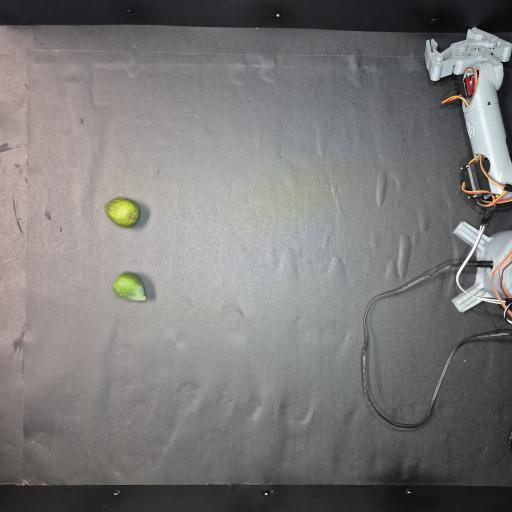higo: (104, 197, 140, 227), (113, 272, 146, 300)
